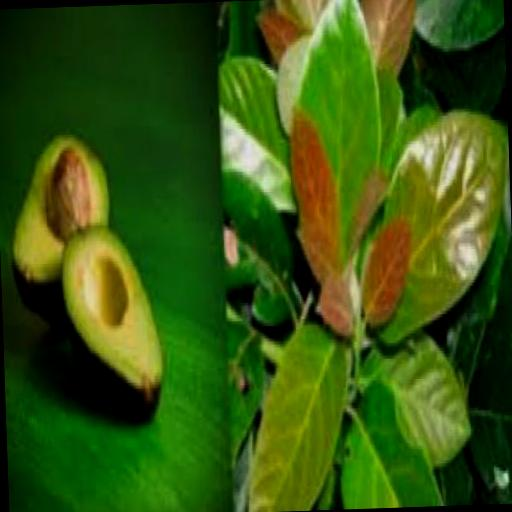biodegradable: (364, 101, 512, 340), (61, 216, 166, 422), (292, 0, 386, 229), (10, 124, 114, 319), (246, 320, 352, 509), (357, 324, 476, 466), (336, 368, 446, 506), (464, 235, 512, 503), (280, 0, 421, 91), (219, 50, 296, 212), (222, 163, 298, 324), (292, 104, 346, 285), (356, 214, 419, 332), (423, 27, 506, 106), (228, 314, 268, 462), (44, 143, 95, 236), (410, 0, 503, 49), (256, 0, 309, 58), (317, 264, 357, 339)
